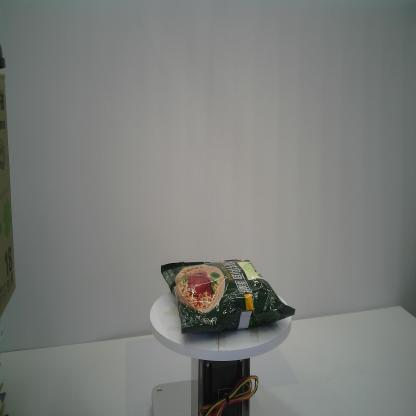Instant Noodles: (160, 256, 296, 336)
